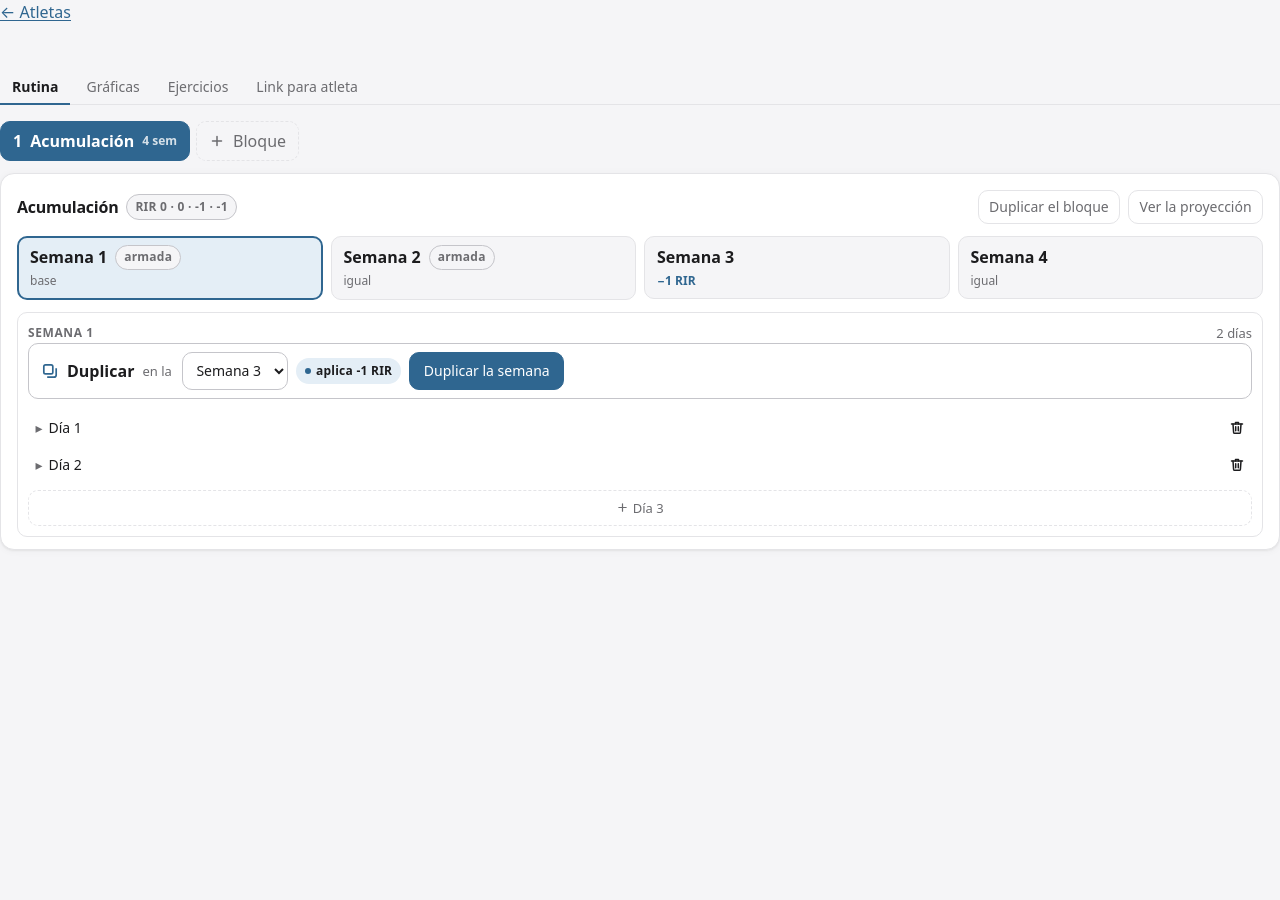
Test case: borrar del catálogo pide confirmación › apretar el tacho no borra: abre el diálogo
This screenshot has width=1280, height=900.
What coordinates should you click on to do the following:
click the tab "Ejercicios"
I would click on:
 (198, 88)
Its box is [156, 70, 240, 106].
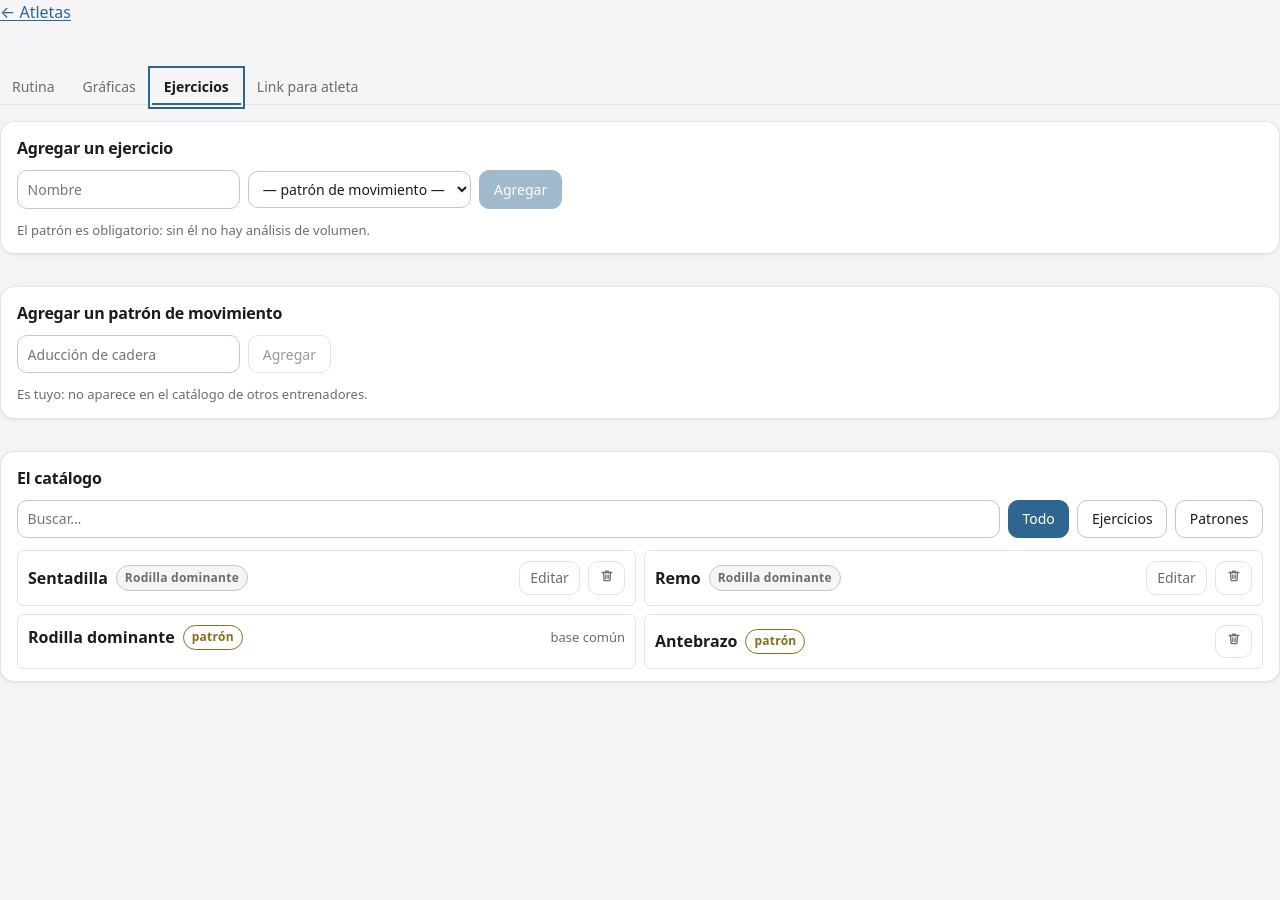
expect the text "Sentadilla" is shown: met, box [28, 566, 108, 590]
What coordinates should you click on to do the following:
click the button named "Borrar Sentadilla"
I would click on:
 (607, 578)
Its box is [588, 561, 625, 595].
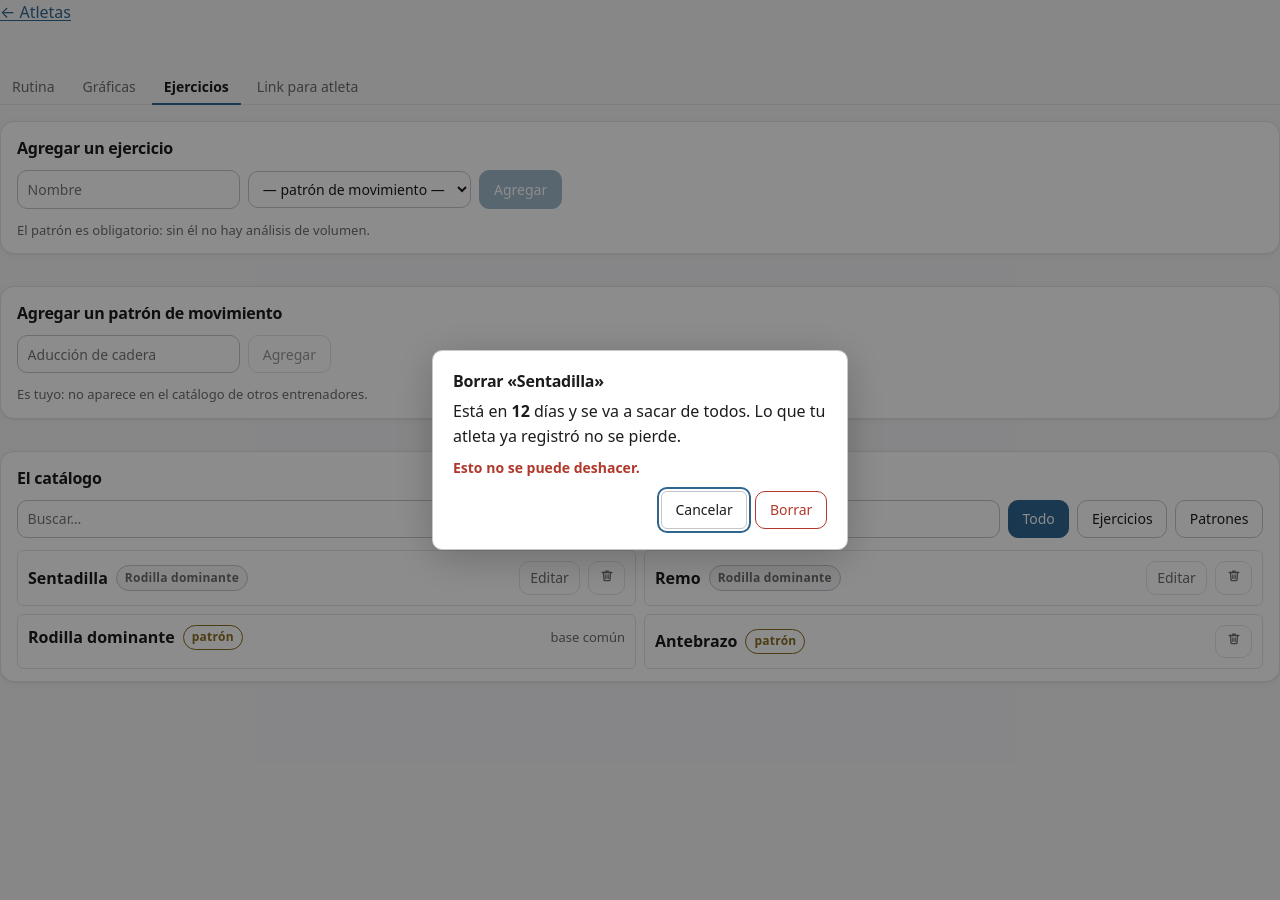
expect the dialog is shown: met, box [432, 350, 848, 550]
